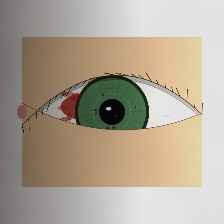hemorrhage_spot: (48, 71, 137, 142)
